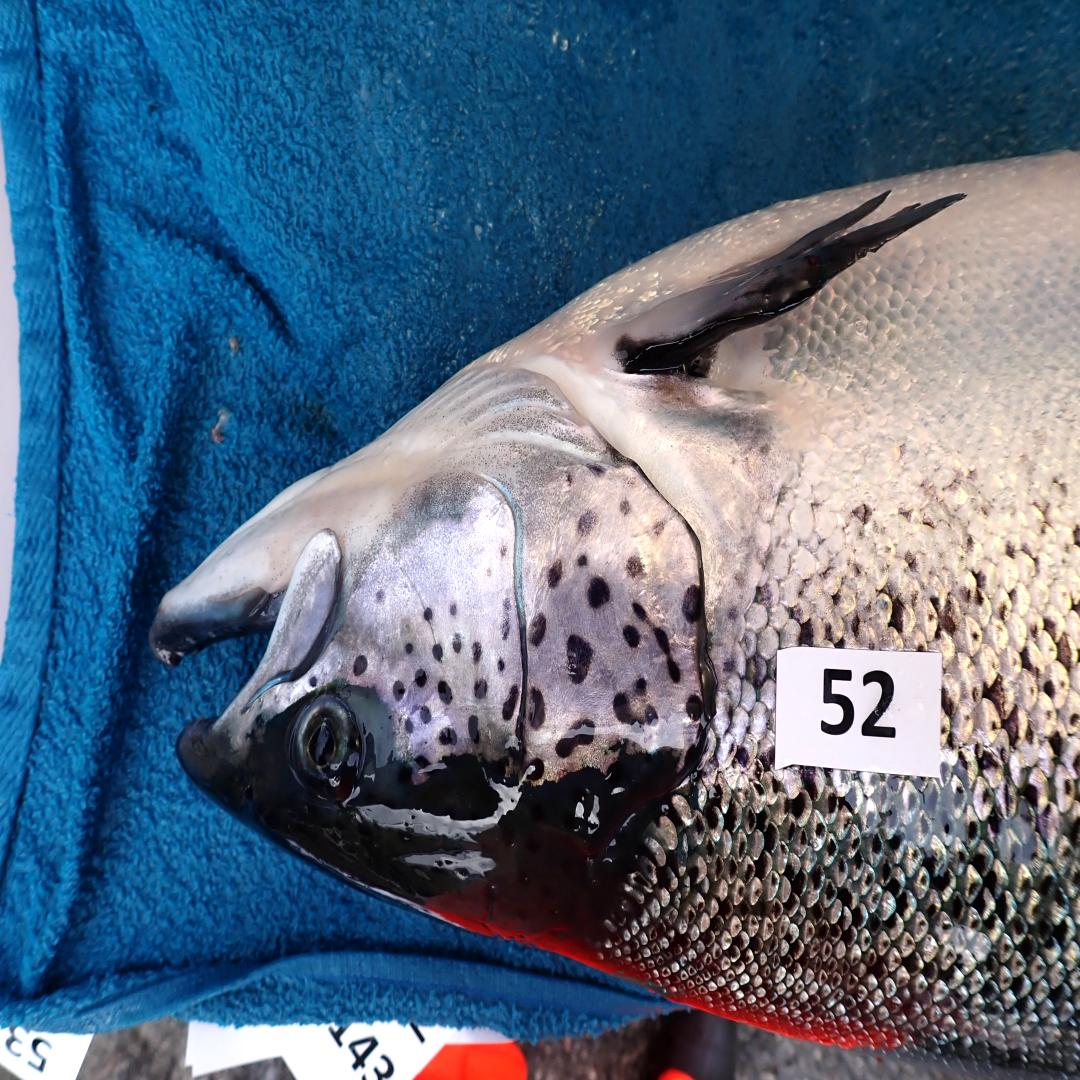roi: (339, 357, 708, 780)
